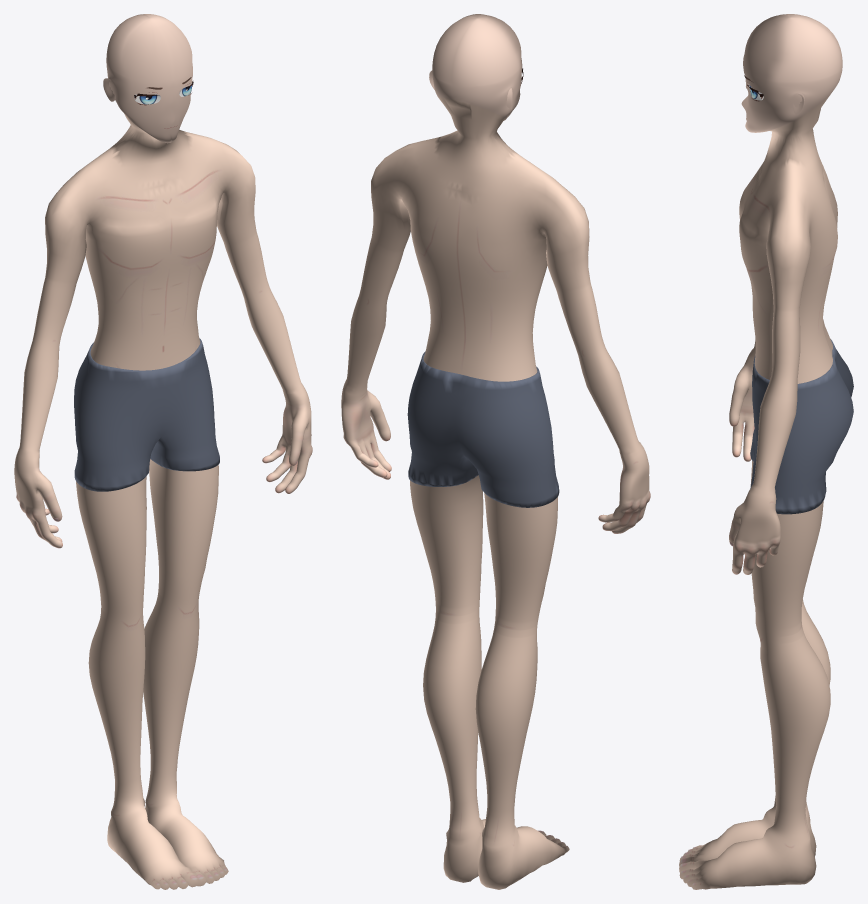
The model's file is enosh-t011-pose.glb.
The picture shows the model from 3 angles, left to right: view 1: azimuth 30°, elevation 25°; view 2: azimuth 150°, elevation 25°; view 3: azimuth 270°, elevation 25°; orthographic projection. The views are drawn at different scales.
Parts seen in each view (by area): view 1: Enosh_Skin, Enosh_Under_Short; view 2: Enosh_Skin, Enosh_Under_Short; view 3: Enosh_Skin, Enosh_Under_Short.
Boxes of the visible parts, left/top/right/bottom form: Enosh_Skin: left=14, top=14, right=312, bottom=889; Enosh_Under_Short: left=74, top=338, right=219, bottom=491; Enosh_Skin: left=341, top=14, right=650, bottom=889; Enosh_Under_Short: left=407, top=351, right=559, bottom=507; Enosh_Skin: left=679, top=14, right=842, bottom=889; Enosh_Under_Short: left=750, top=339, right=853, bottom=514.
Size of the model in its own units: 0.6364 by 1.74 by 0.3211.
16 materials, 14 textured.
